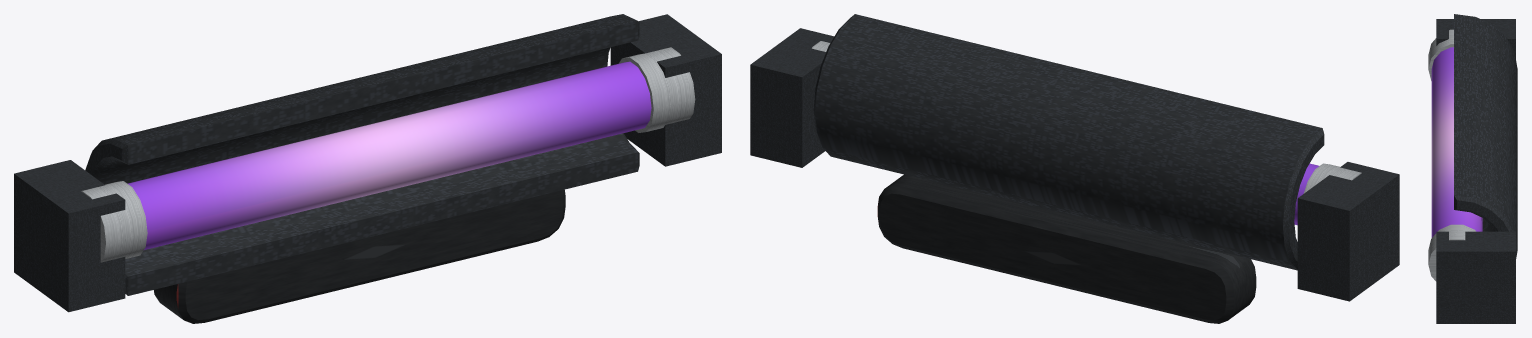
File: uvlamp.obj
3 renders of one model, left to right at view 1: azimuth 30°, elevation 25°; view 2: azimuth 150°, elevation 25°; view 3: azimuth 270°, elevation 25°, orthographic. The views are drawn at different scales.
Parts seen in each view (by area): view 1: uvlamp_2_surface, uvlamp_0_glow, uvlamp_1_surface; view 2: uvlamp_2_surface, uvlamp_1_surface; view 3: uvlamp_2_surface, uvlamp_0_glow, uvlamp_1_surface.
Boxes of the visible parts, bbox=[...] form: uvlamp_2_surface: bbox=[14, 14, 721, 323]; uvlamp_0_glow: bbox=[127, 61, 651, 249]; uvlamp_1_surface: bbox=[81, 47, 695, 262]; uvlamp_2_surface: bbox=[750, 14, 1399, 323]; uvlamp_1_surface: bbox=[812, 41, 1361, 193]; uvlamp_2_surface: bbox=[1436, 14, 1517, 323]; uvlamp_0_glow: bbox=[1431, 47, 1482, 237]; uvlamp_1_surface: bbox=[1428, 29, 1475, 281].
Bounding box in the file's own units: 0.346 × 0.1052 × 0.056.
Materials: 3 (3 with a texture image).
